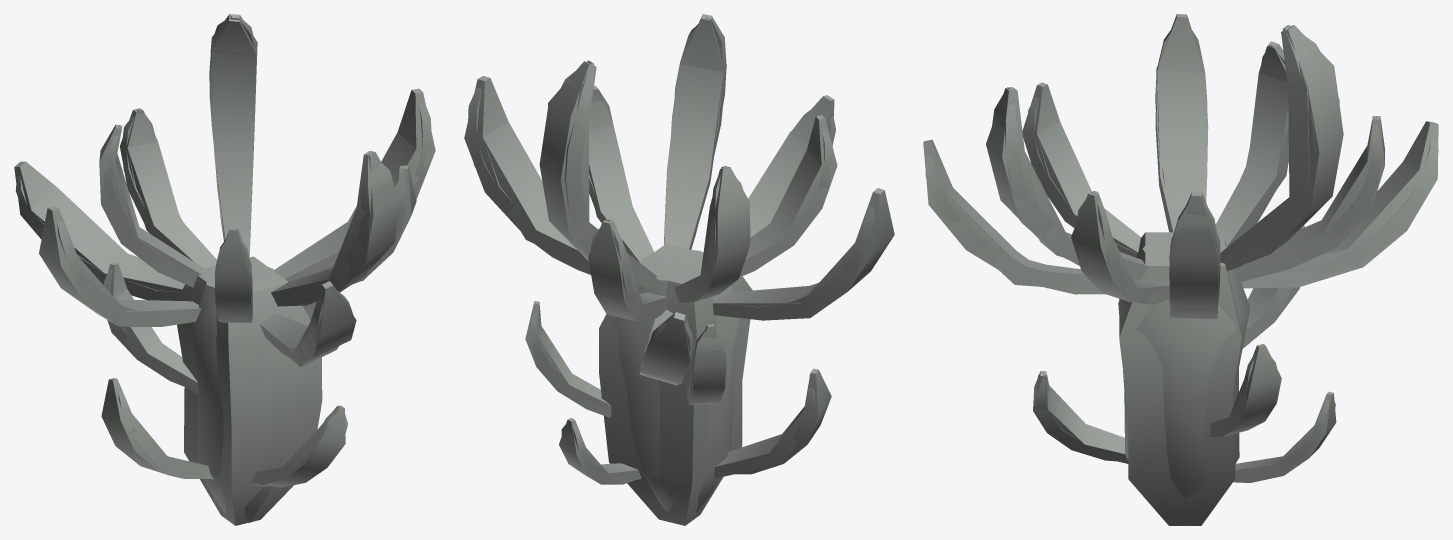
The model's file is Env_plant00_LOD_Mesh.fbx.
The picture shows the model from 3 angles, left to right: view 1: azimuth 30°, elevation 25°; view 2: azimuth 150°, elevation 25°; view 3: azimuth 270°, elevation 25°; orthographic projection. The views are drawn at different scales.
Visible parts, largest first — view 1: Env_plant00_LOD3_Mesh, Env_plant00_LOD2_Mesh, Env_plant00_LOD1_Mesh; view 2: Env_plant00_LOD3_Mesh, Env_plant00_LOD2_Mesh, Env_plant00_LOD1_Mesh; view 3: Env_plant00_LOD3_Mesh, Env_plant00_LOD2_Mesh, Env_plant00_LOD1_Mesh.
Boxes of the visible parts, box(x1,y1,x2,y2) form: Env_plant00_LOD3_Mesh: box(31, 15, 435, 525); Env_plant00_LOD2_Mesh: box(14, 14, 435, 522); Env_plant00_LOD1_Mesh: box(15, 15, 431, 472); Env_plant00_LOD3_Mesh: box(482, 64, 854, 525); Env_plant00_LOD2_Mesh: box(464, 14, 894, 512); Env_plant00_LOD1_Mesh: box(467, 15, 874, 483); Env_plant00_LOD3_Mesh: box(948, 30, 1437, 525); Env_plant00_LOD2_Mesh: box(923, 14, 1438, 525); Env_plant00_LOD1_Mesh: box(925, 25, 1438, 481).
Size of the model in its own units: 113 by 129 by 117.
